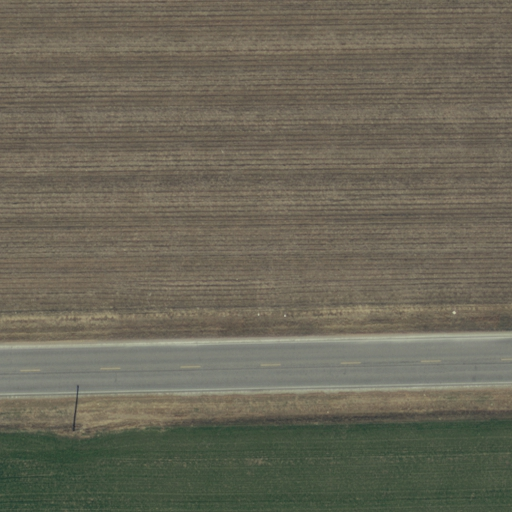DT: (57, 416, 89, 443)
